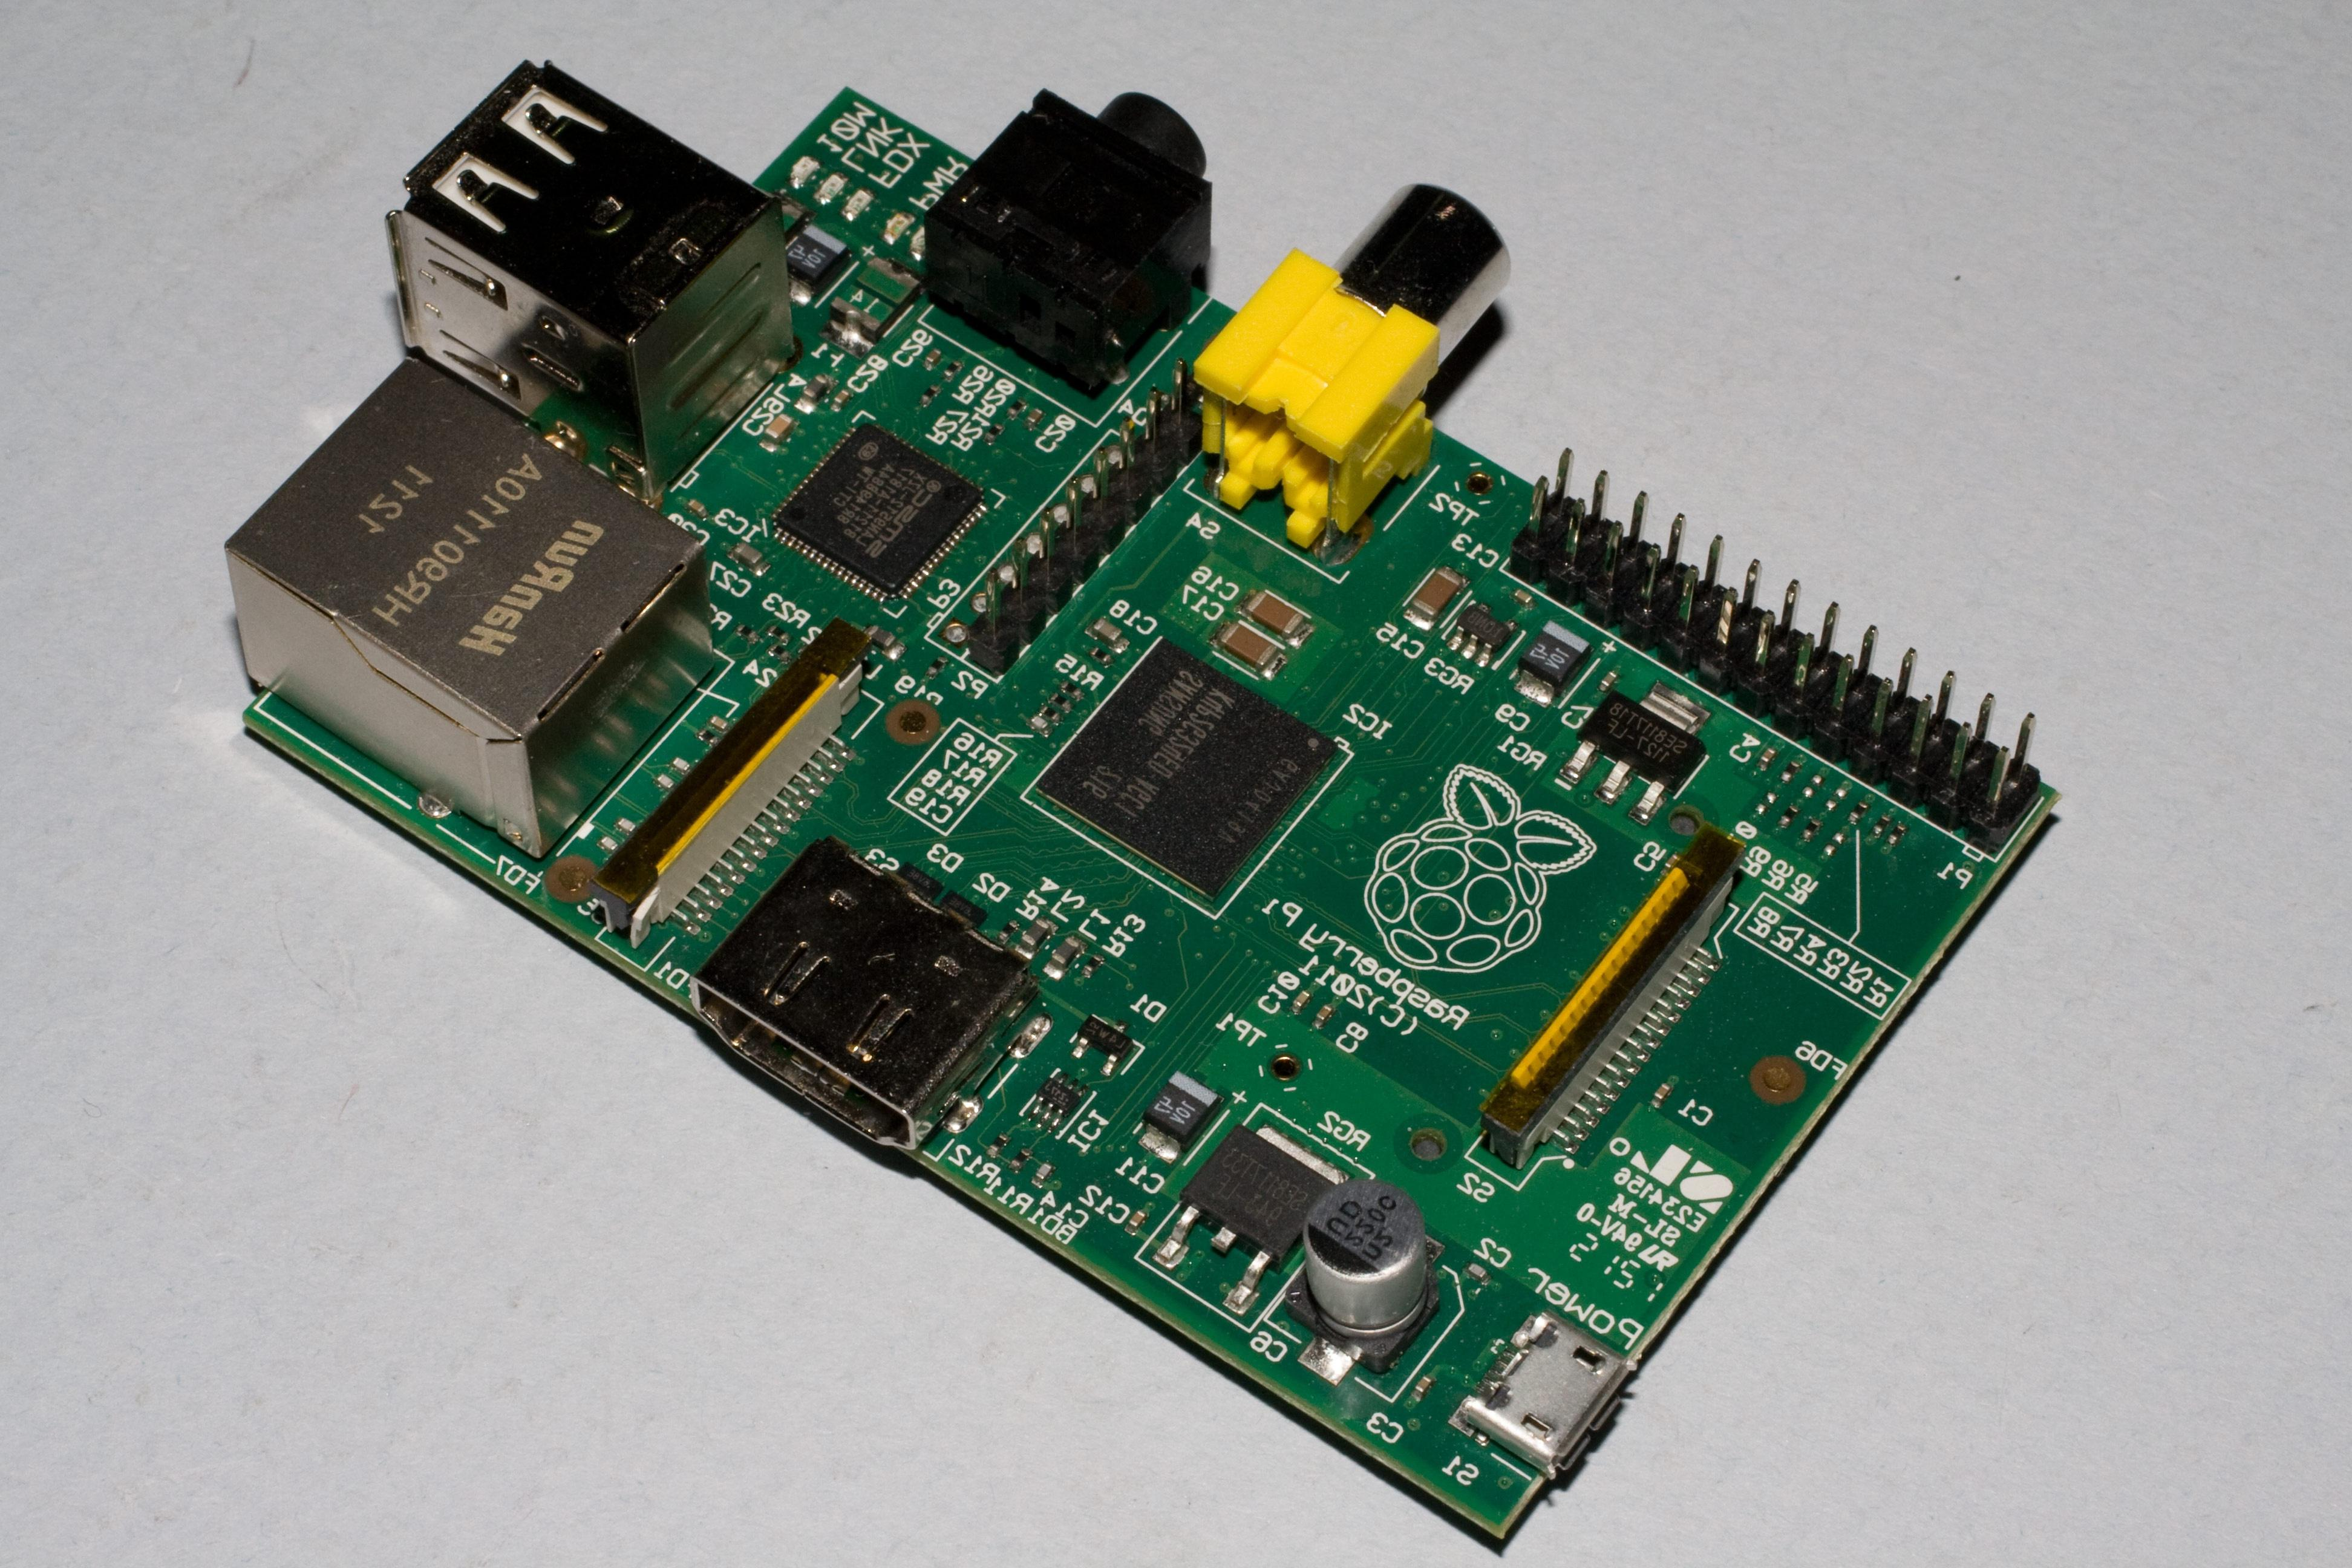audiojack: (1195, 171, 1521, 556)
bchi: (1025, 649, 1344, 884)
gpio: (1503, 472, 2065, 852)
